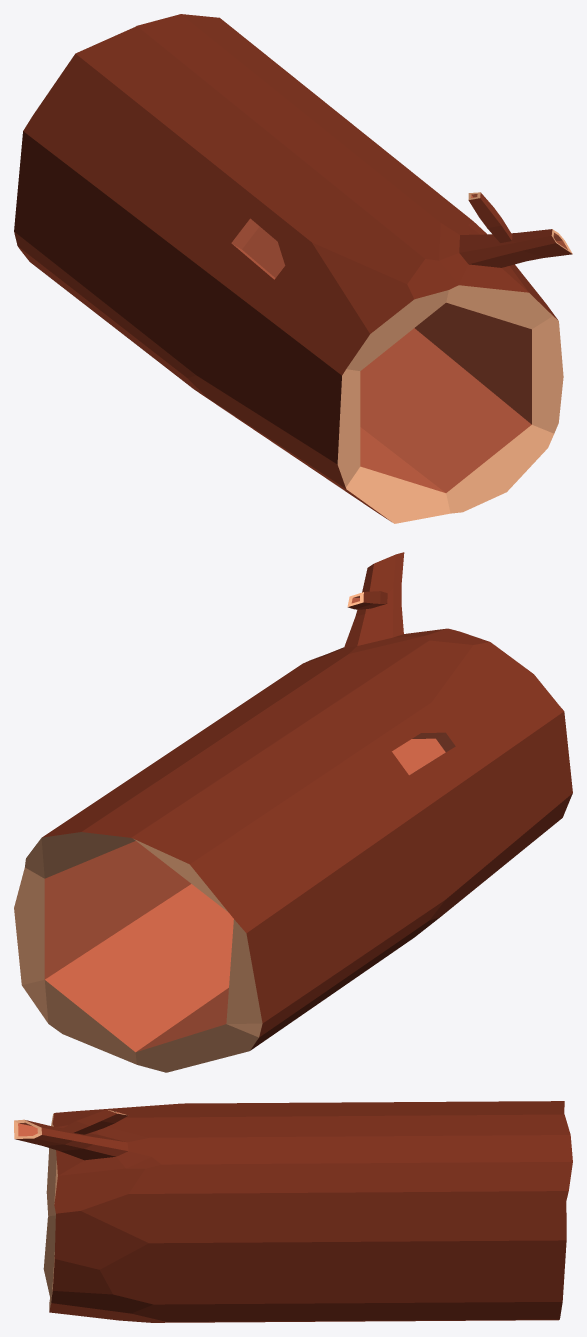
The model's file is Stump 3.fbx.
3 views of the same model, one above another, from view 1: azimuth 30°, elevation 25°; view 2: azimuth 150°, elevation 25°; view 3: azimuth 270°, elevation 25° (orthographic). The views are drawn at different scales.
Visible parts, largest first — view 1: Stump 3; view 2: Stump 3; view 3: Stump 3.
Part boxes in pixels (<box>): Stump 3: <box>14,14,572,523</box>; Stump 3: <box>14,552,572,1072</box>; Stump 3: <box>14,1101,572,1322</box>.
Bounding box in the file's own units: 109 × 115 × 265.
